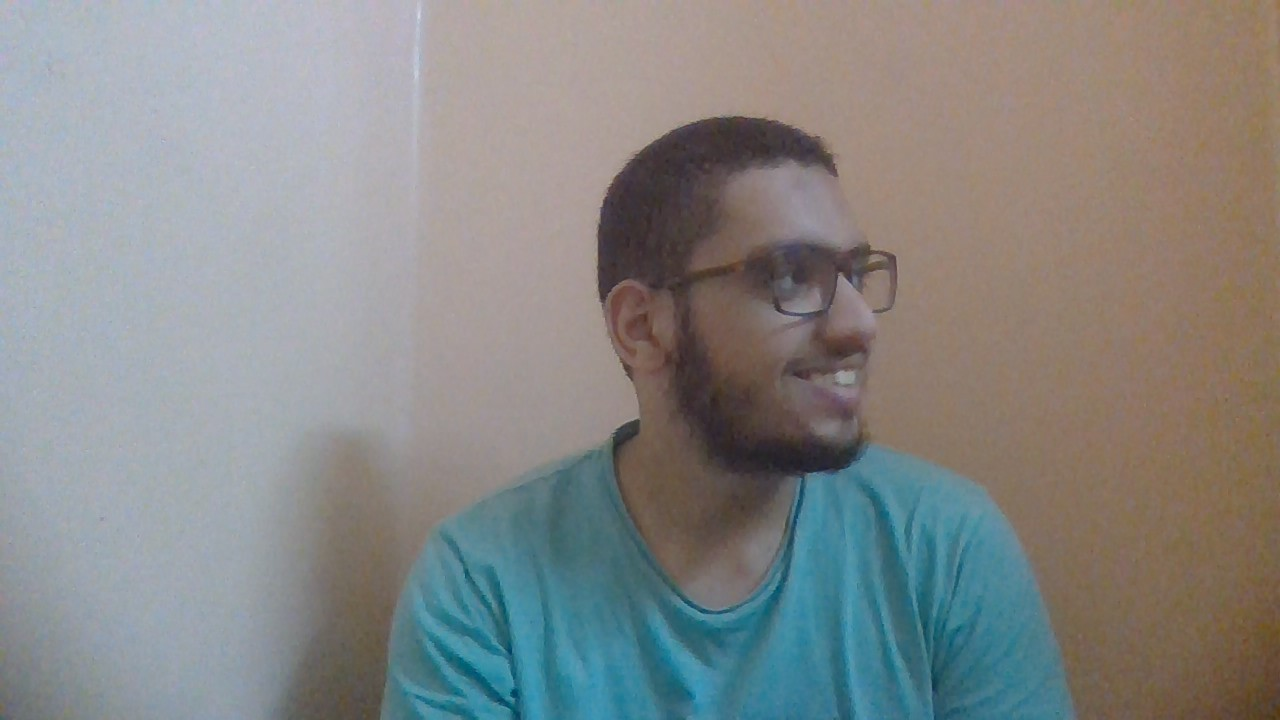Nomask: (606, 320, 870, 474)
